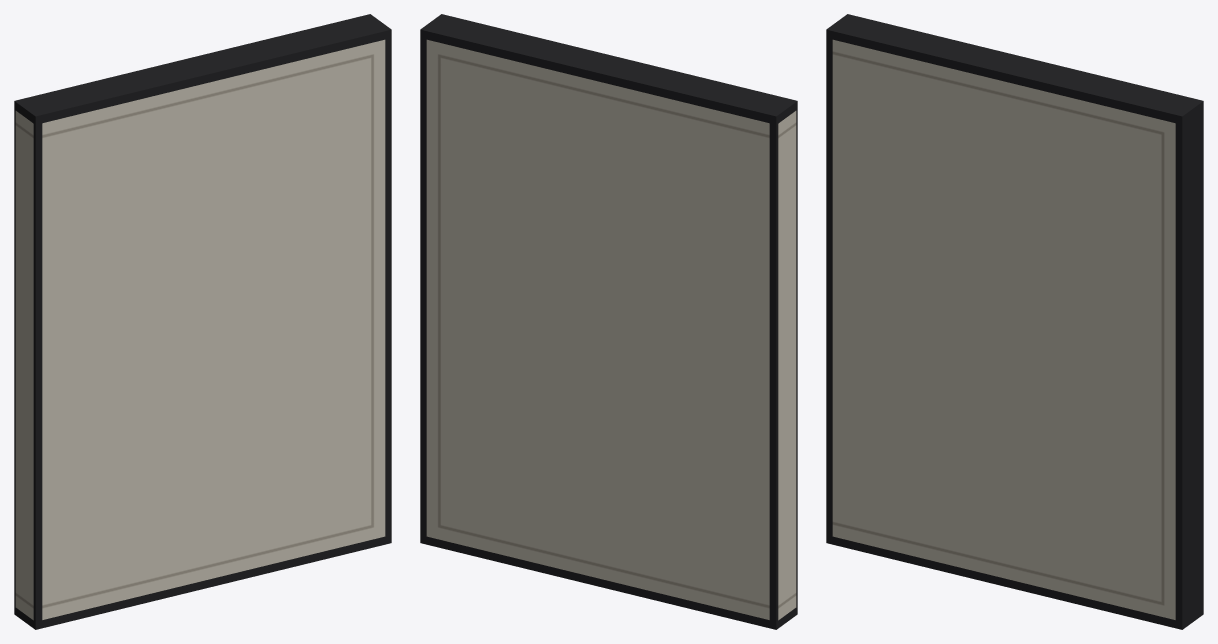
File: gamecube_case.glb
3 views of the same model, side by side, from view 1: azimuth 30°, elevation 25°; view 2: azimuth 150°, elevation 25°; view 3: azimuth 330°, elevation 25° (orthographic).
Visible parts, largest first — view 1: gamecube_case; view 2: gamecube_case; view 3: gamecube_case.
Part boxes in pixels (left/top/right/bottom): gamecube_case: left=14, top=14, right=391, bottom=629; gamecube_case: left=420, top=14, right=797, bottom=629; gamecube_case: left=826, top=14, right=1203, bottom=629.
Bounding box in the file's own units: 0.1351 × 0.186 × 0.0142.
Materials: 2 (1 with a texture image).
